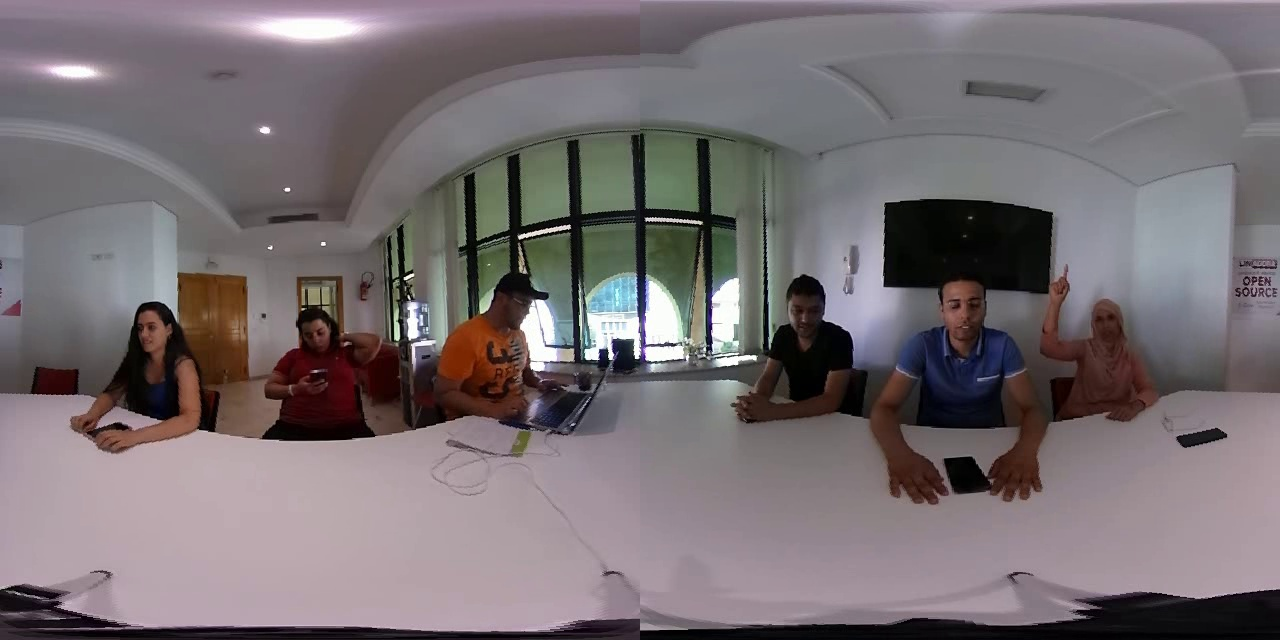person: (870, 261, 1052, 527), (66, 289, 219, 463), (426, 261, 572, 428), (725, 264, 859, 438), (241, 302, 388, 455), (1028, 270, 1171, 425)
speaking: (1033, 261, 1088, 375)
